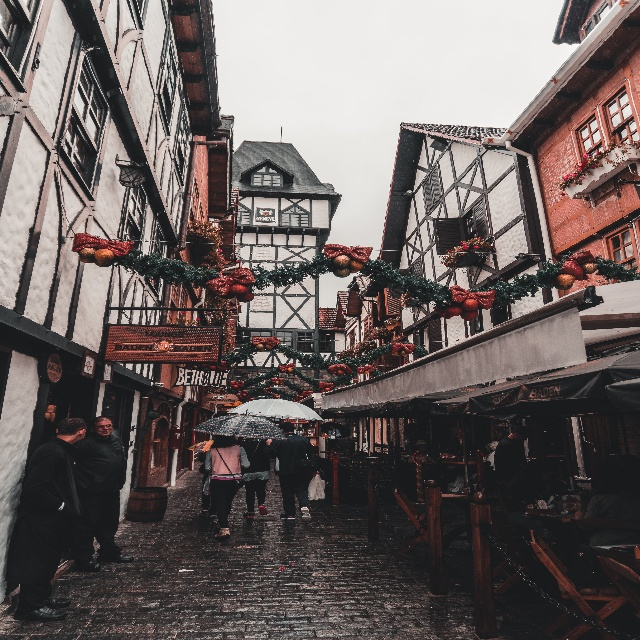Gafas: (93, 423, 114, 428), (421, 446, 427, 450)
Sin_guantes: (312, 470, 320, 477), (266, 438, 273, 445)
